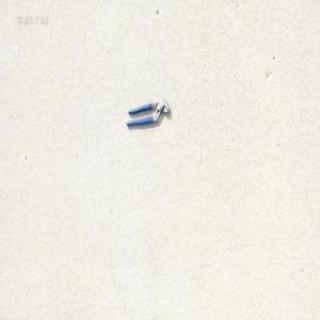Pliertrack_idkeyframe: (125, 98, 170, 127)
